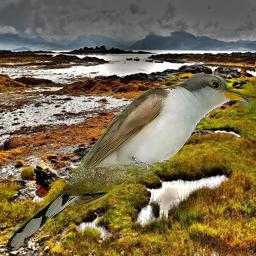Cuckoo: (1, 71, 255, 254)
